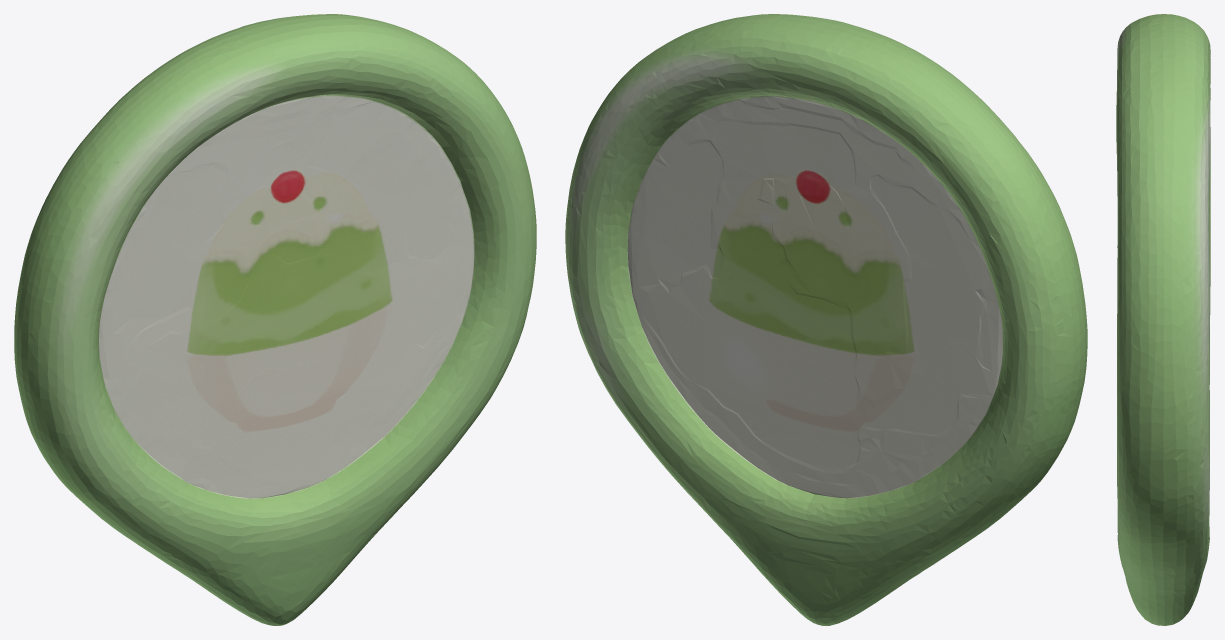
The model's file is COMMON_사물_map_node_japan.glb.
3 renders of one model, left to right at view 1: azimuth 30°, elevation 25°; view 2: azimuth 150°, elevation 25°; view 3: azimuth 270°, elevation 25°, orthographic. The views are drawn at different scales.
Parts seen in each view (by area): view 1: world; view 2: world; view 3: world.
Part boxes in pixels (bbox=[...]): world: bbox=[14, 14, 536, 625]; world: bbox=[565, 14, 1087, 625]; world: bbox=[1116, 14, 1210, 625].
Size of the model in its own units: 0.8975 by 1 by 0.1487.
Materials: 1 (1 with a texture image).
